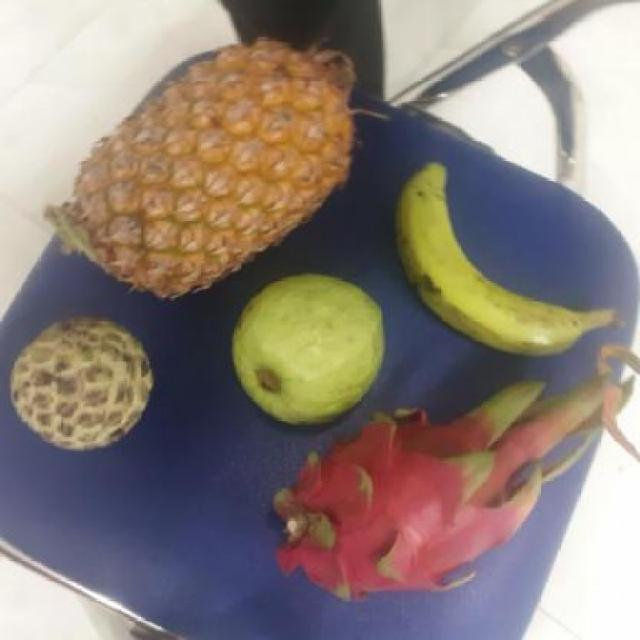dragon fruit: (276, 397, 544, 601)
guava: (233, 281, 390, 425)
pineapple: (59, 37, 364, 292)
sugar apple: (10, 319, 159, 450)
